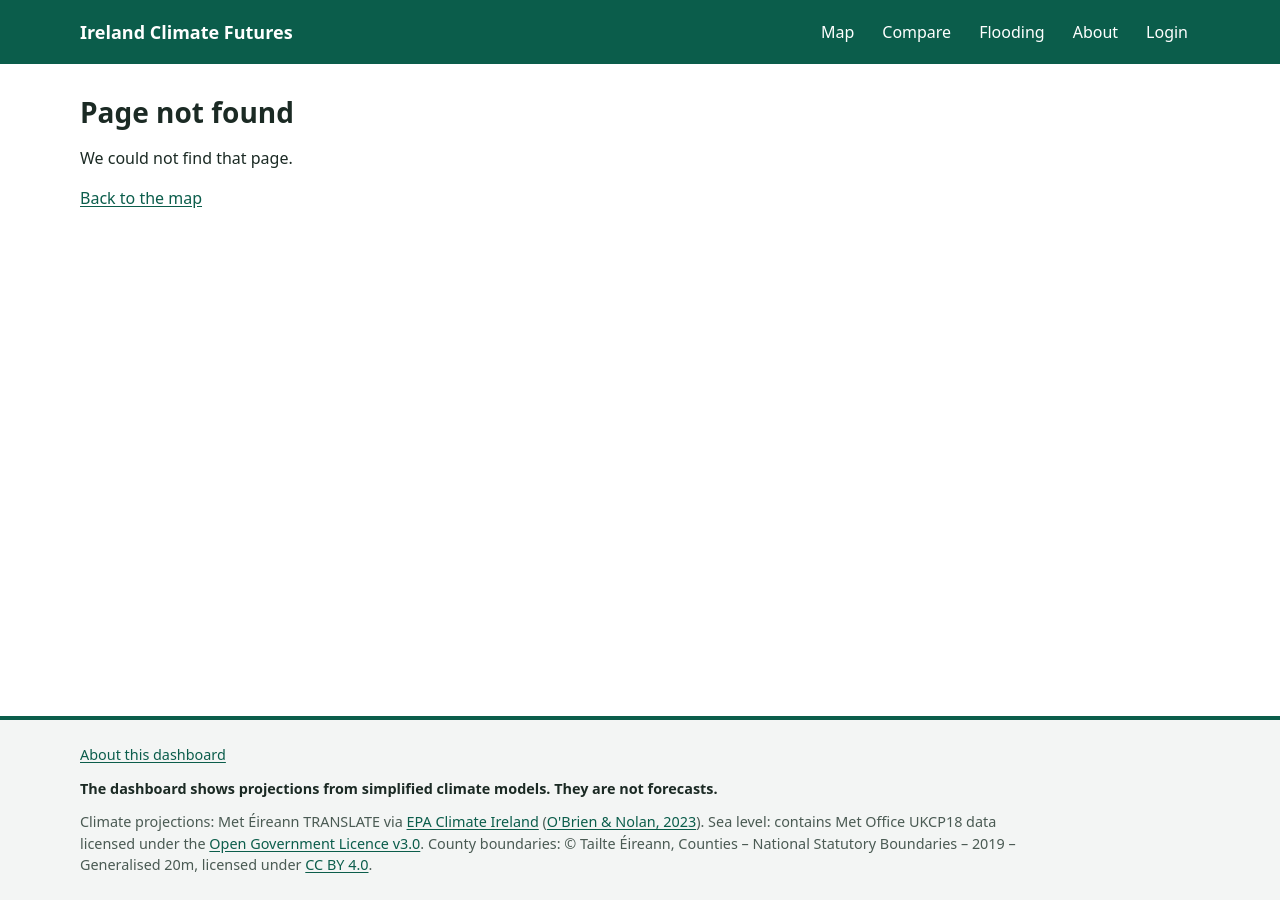
Test: moving around the site › the Back to the map link on Page not found goes home
This screenshot has width=1280, height=900.
Click the link "Back to the map".
click(141, 198)  # box [80,187,202,209]
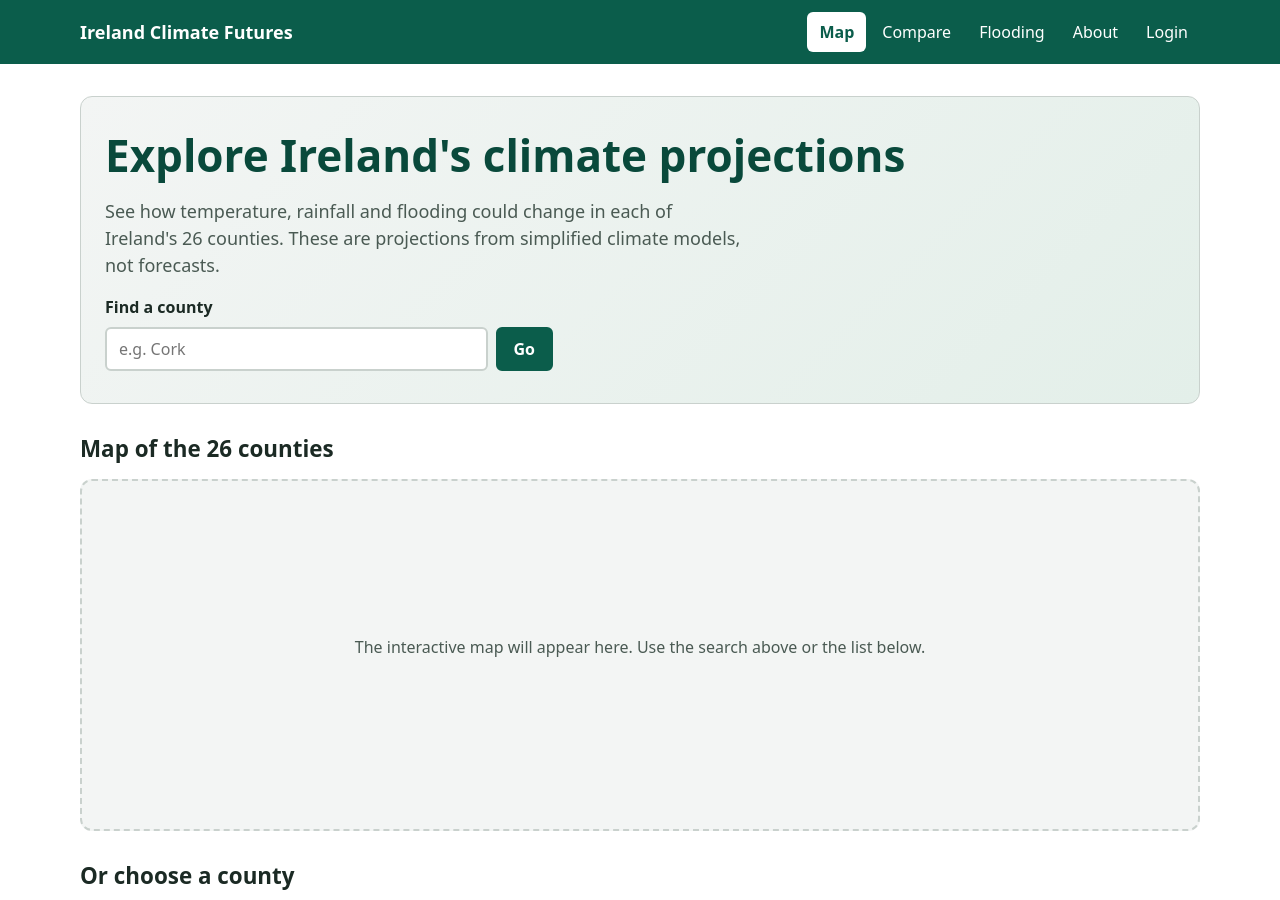
Now the heading "Explore Ireland's climate projections" is shown, box [105,125,905,185]
